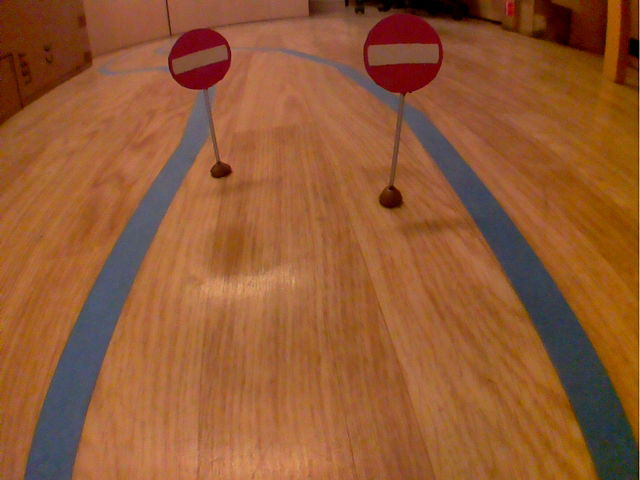Zakaz: (359, 7, 447, 99), (163, 24, 234, 95)
